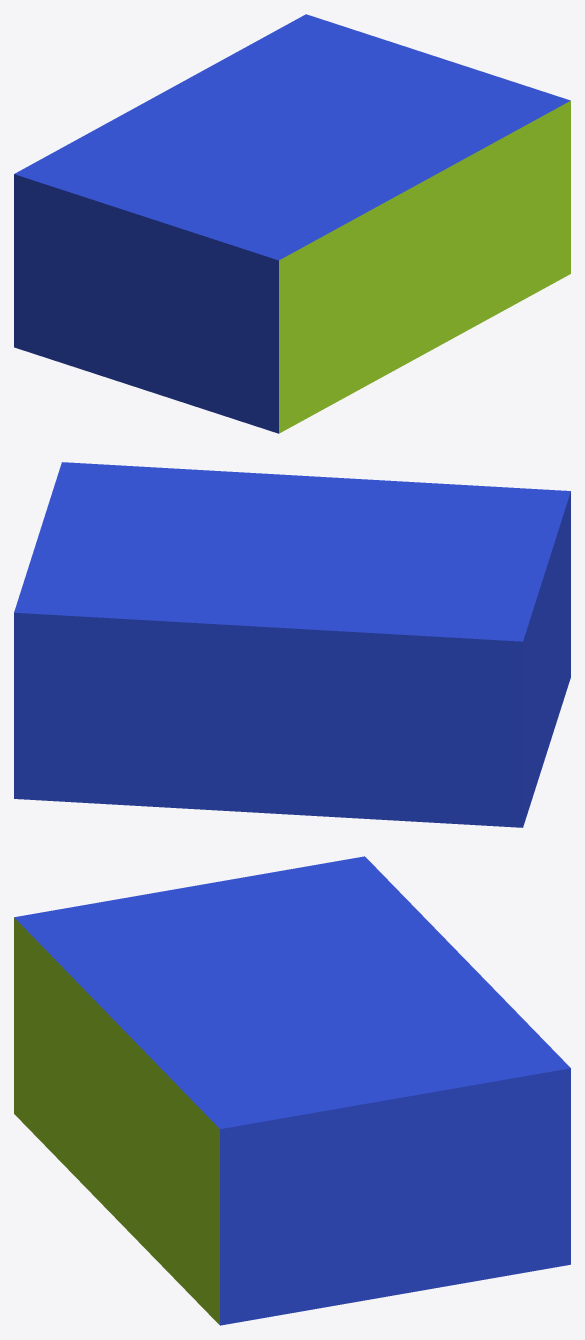
The model's file is asset.glb.
3 views of the same model, one above another, from view 1: azimuth 30°, elevation 25°; view 2: azimuth 150°, elevation 25°; view 3: azimuth 270°, elevation 25° (orthographic). The views are drawn at different scales.
Parts seen in each view (by area): view 1: Cube; view 2: Cube; view 3: Cube.
Boxes of the visible parts, x1,y1,x2,y2 form: Cube: (14,14,570,433); Cube: (14,462,570,827); Cube: (14,856,570,1325).
Size of the model in its own units: 11.91 by 4 by 10.28.
